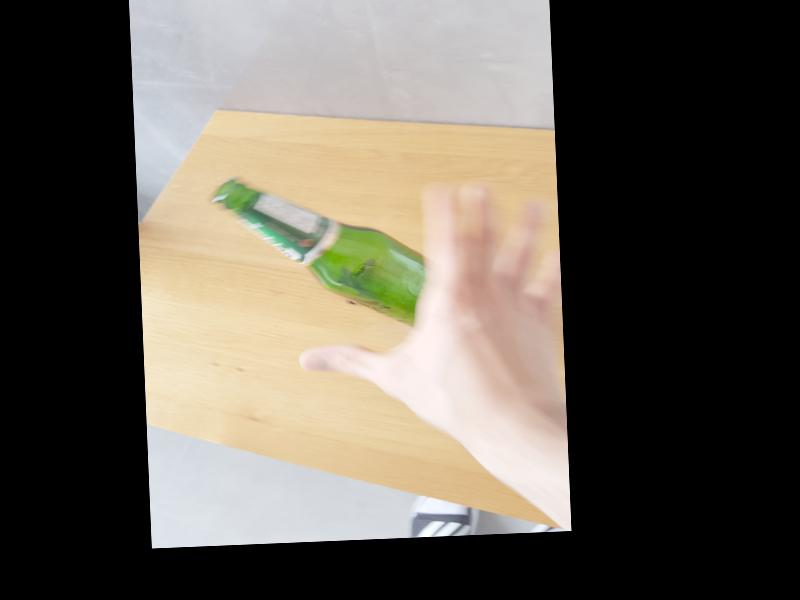Beer: (209, 170, 427, 336)
